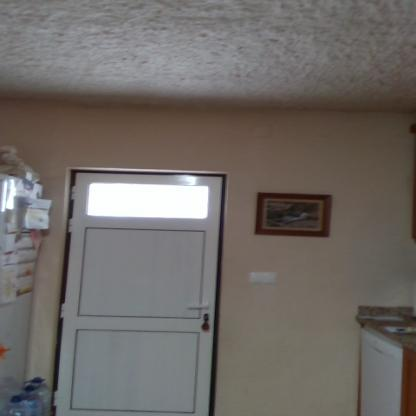door: (72, 173, 216, 413)
hinged: (51, 388, 60, 408), (70, 184, 76, 202), (68, 217, 74, 232), (60, 303, 66, 318)
lever: (186, 304, 214, 310)
